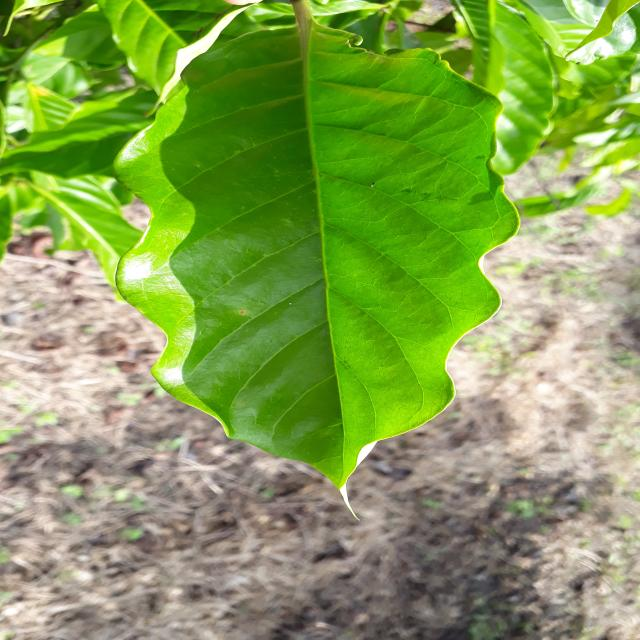Sanas: (117, 0, 521, 493)
